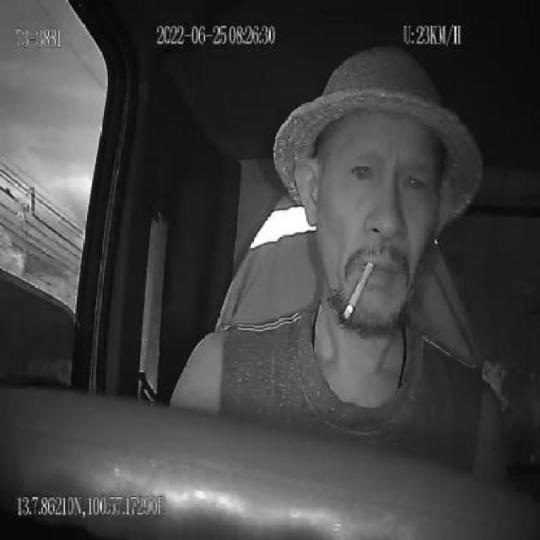smoking: (345, 260, 373, 321)
